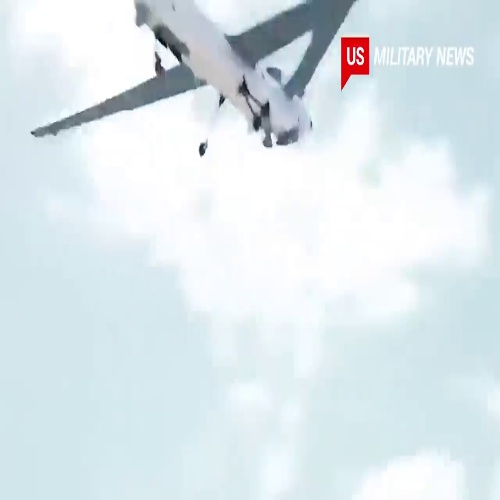uav: (25, 2, 356, 149)
